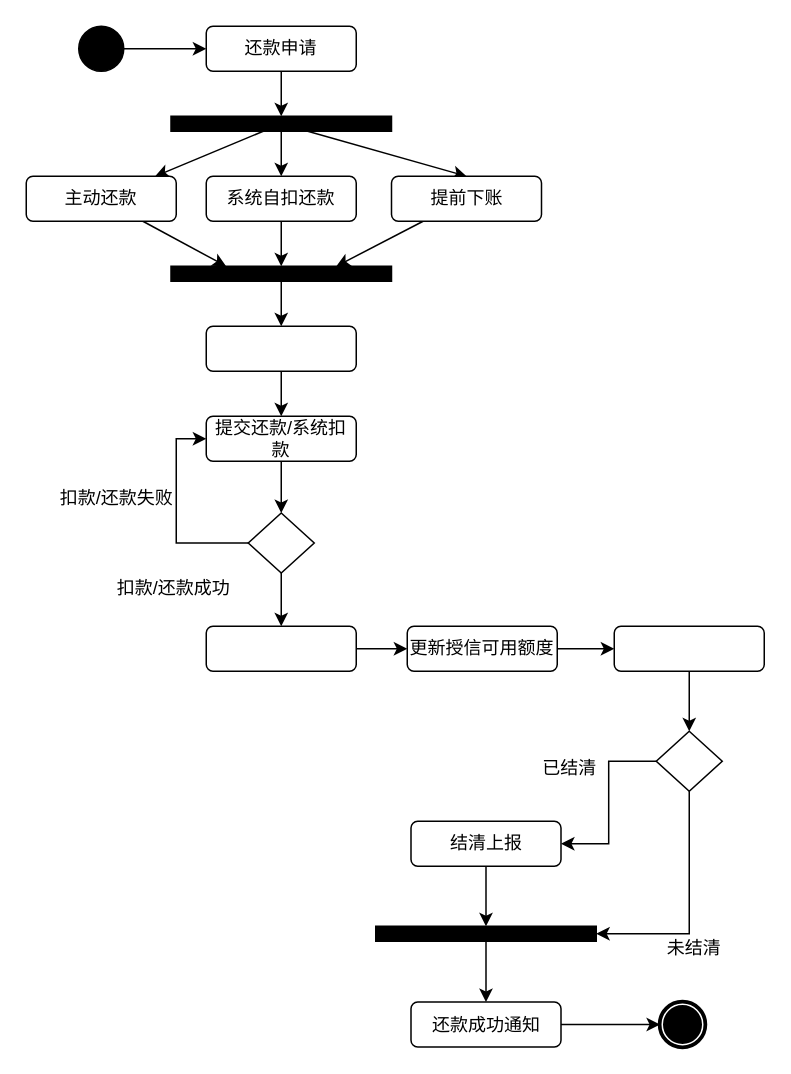
Image size: 791x1074. Some labels were removed from this diagram. Here are the shapes that lost their labels. From the top down, the box of each, then its label:
(205, 325, 356, 371): 还款试算
(205, 625, 356, 671): 更新还款计划
(613, 625, 764, 671): 更新借据详情
